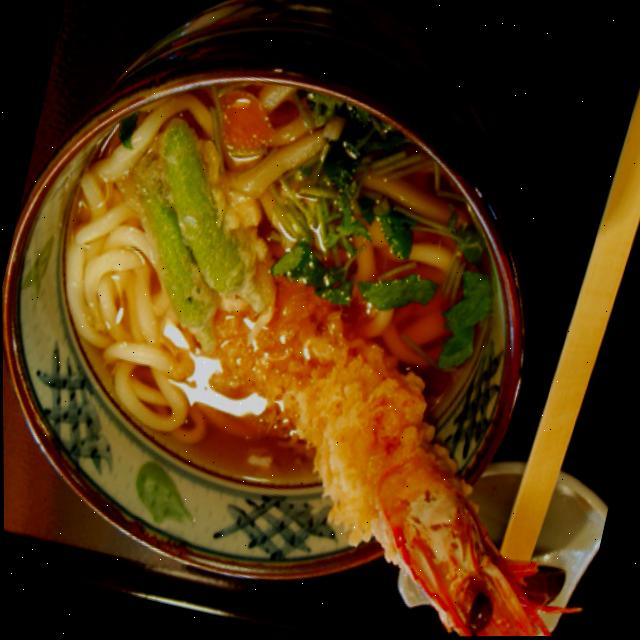面条主食: (0, 48, 640, 640)
